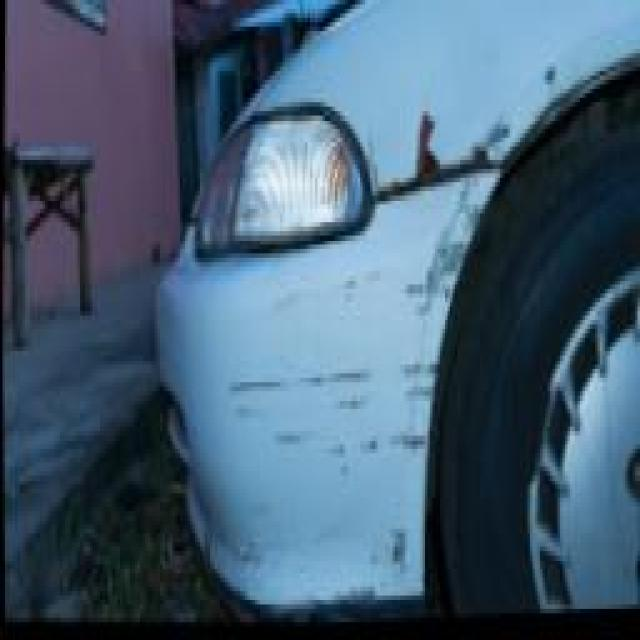Bumper: (218, 169, 495, 620)
Fender: (352, 36, 571, 209)
